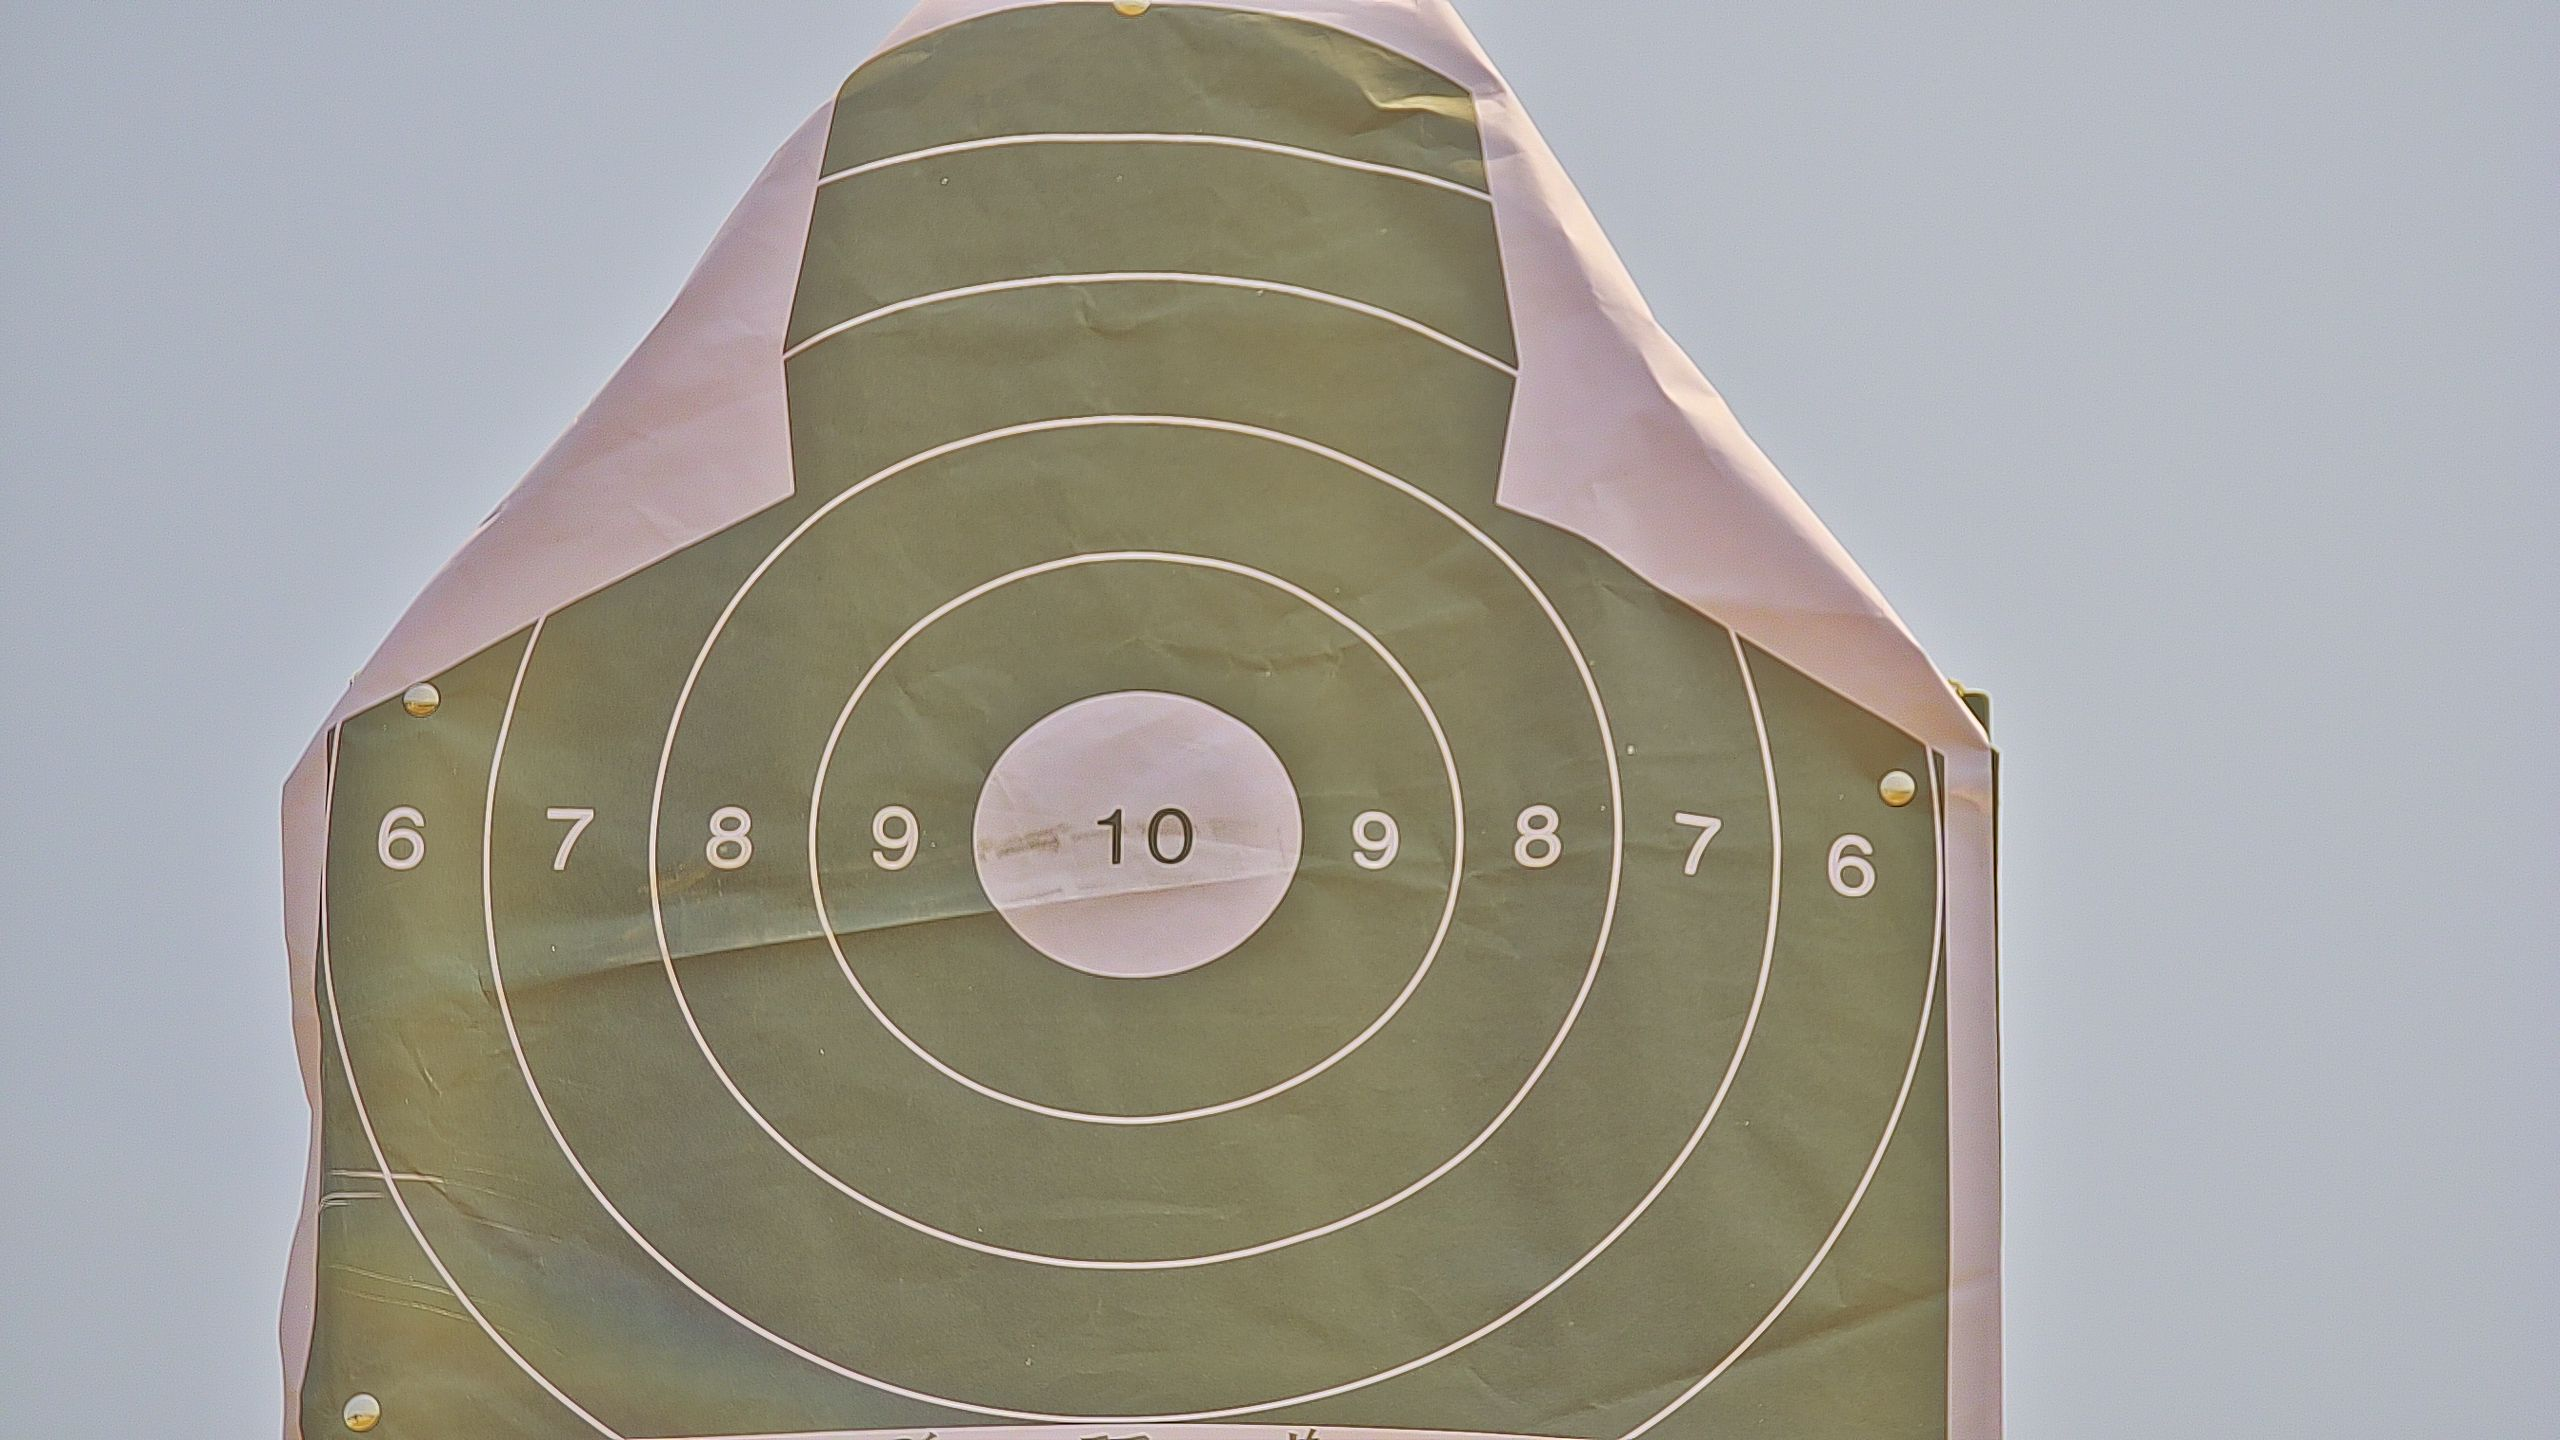kernel: (1129, 837, 1139, 840)
target: (316, 2, 1946, 1440)
ten: (972, 689, 1305, 979)
